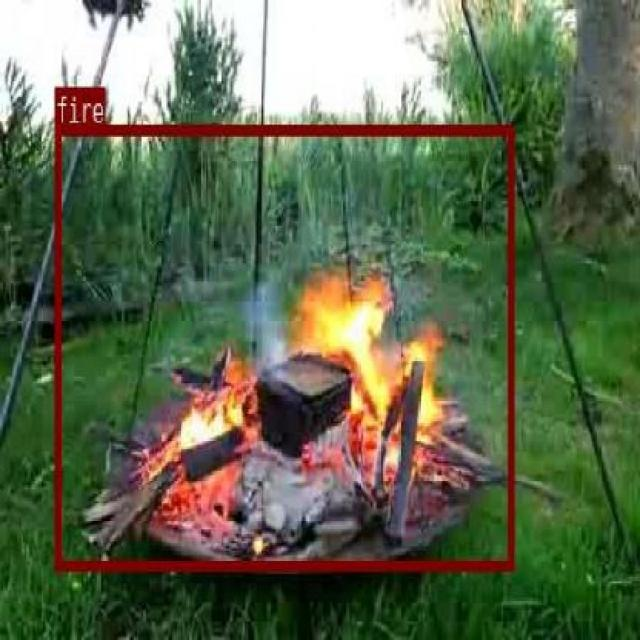fire: (54, 124, 514, 568)
